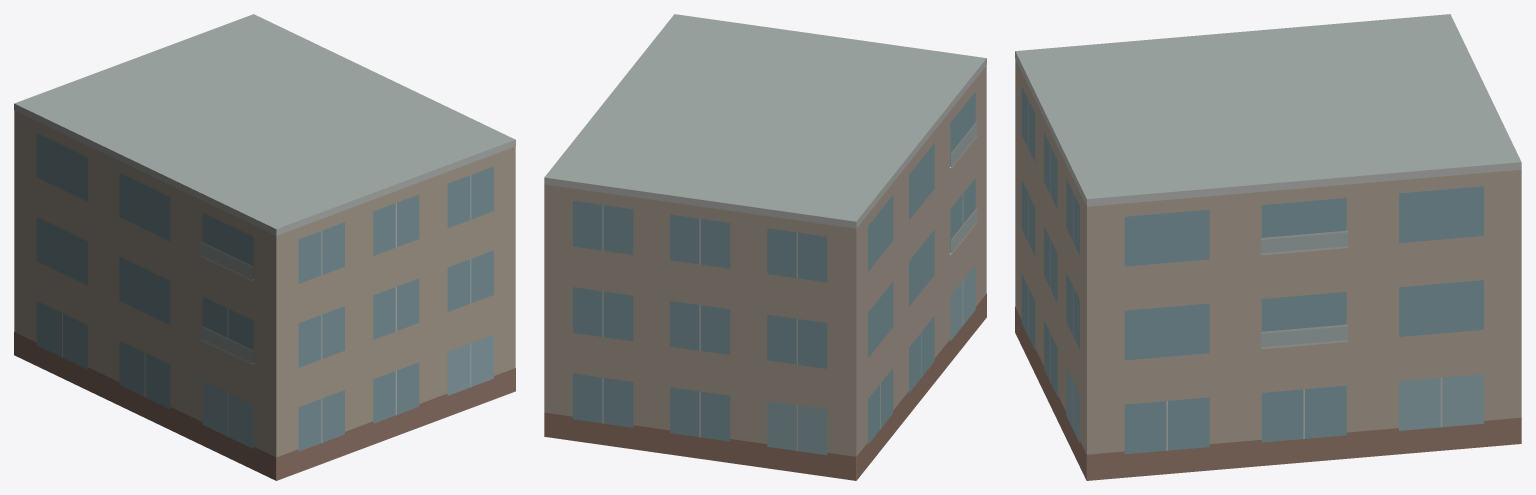
File: survey-upis-32990602.glb
The picture shows the model from 3 angles, left to right: view 1: azimuth 30°, elevation 25°; view 2: azimuth 150°, elevation 25°; view 3: azimuth 270°, elevation 25°; orthographic projection. The views are drawn at different scales.
Parts seen in each view (by area): view 1: survey-upis-32990602.tmp; view 2: survey-upis-32990602.tmp; view 3: survey-upis-32990602.tmp.
Boxes of the visible parts, bbox=[...] form: survey-upis-32990602.tmp: bbox=[14, 14, 515, 480]; survey-upis-32990602.tmp: bbox=[544, 14, 986, 480]; survey-upis-32990602.tmp: bbox=[1015, 14, 1521, 480].
Size of the model in its own units: 12.92 by 9.15 by 14.92.
